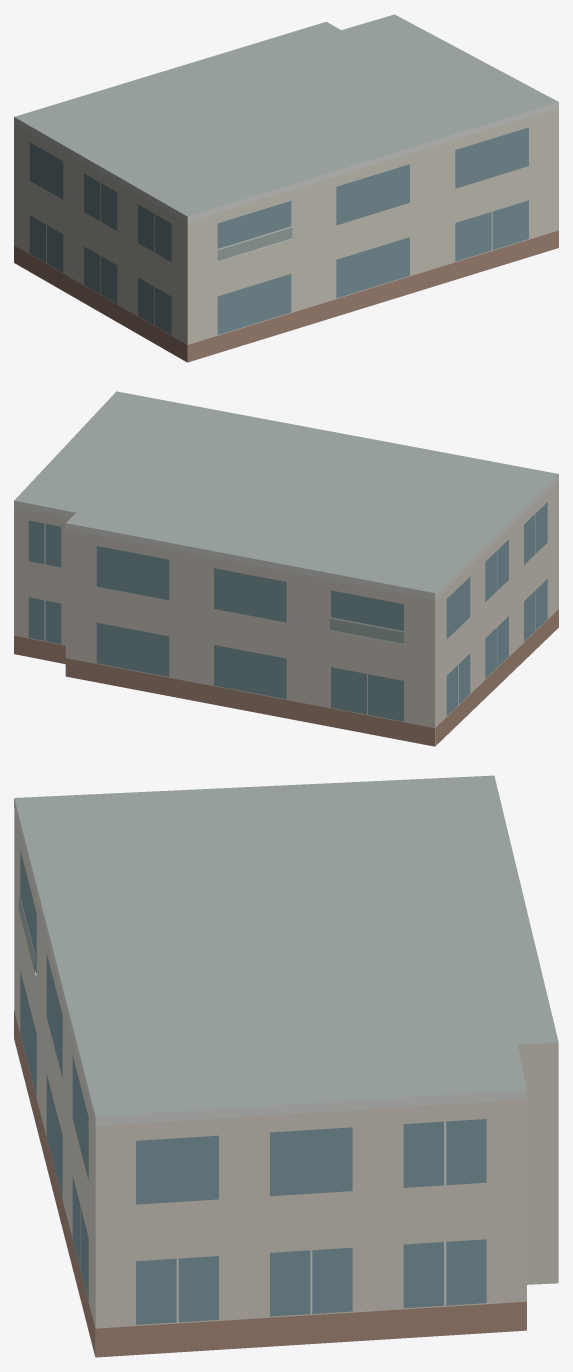
The model's file is survey-upis-32539687.glb.
The picture shows the model from 3 angles, top to bottom: view 1: azimuth 30°, elevation 25°; view 2: azimuth 150°, elevation 25°; view 3: azimuth 270°, elevation 25°; orthographic projection. The views are drawn at different scales.
Visible parts, largest first — view 1: survey-upis-32539687.tmp; view 2: survey-upis-32539687.tmp; view 3: survey-upis-32539687.tmp.
Boxes of the visible parts, left/top/right/bottom form: survey-upis-32539687.tmp: left=14, top=14, right=558, bottom=362; survey-upis-32539687.tmp: left=14, top=391, right=558, bottom=746; survey-upis-32539687.tmp: left=14, top=775, right=558, bottom=1357.
Size of the model in its own units: 18.55 by 6.1 by 12.52.
